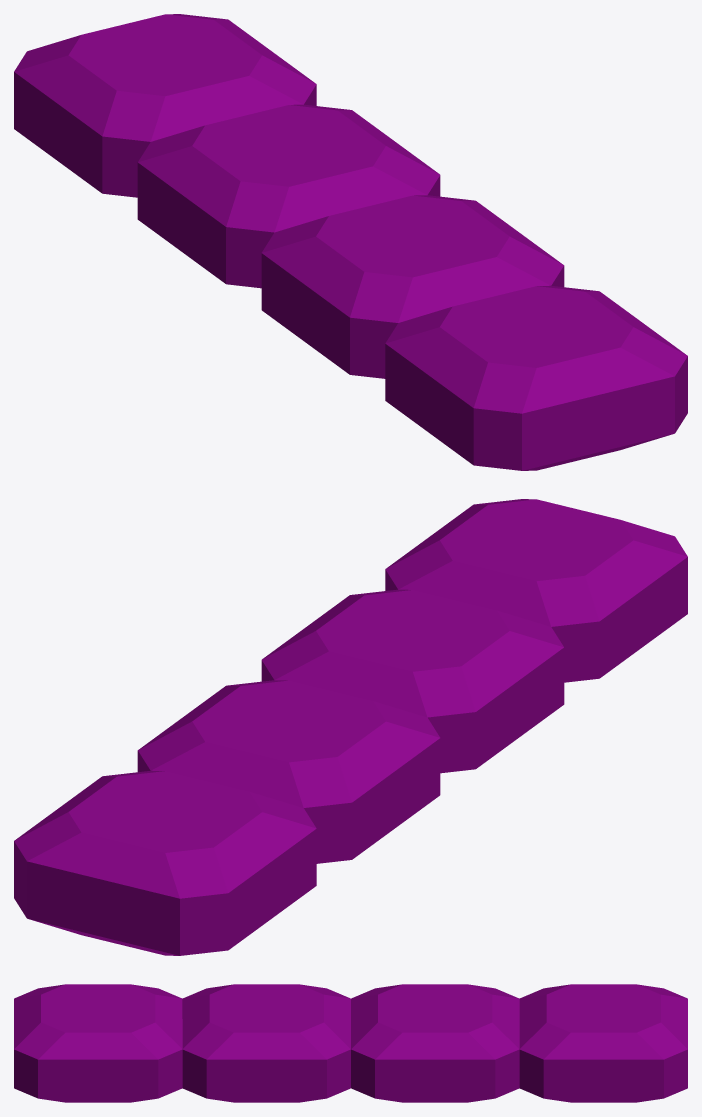
The picture shows the model from 3 angles, top to bottom: view 1: azimuth 30°, elevation 25°; view 2: azimuth 150°, elevation 25°; view 3: azimuth 270°, elevation 25°; orthographic projection. The views are drawn at different scales.
Visible parts, largest first — view 1: Cube.018; view 2: Cube.018; view 3: Cube.018.
Part boxes in pixels (left/top/right/bottom): Cube.018: left=14, top=14, right=687, bottom=470; Cube.018: left=14, top=499, right=687, bottom=955; Cube.018: left=14, top=984, right=687, bottom=1102.
Size of the model in its own units: 0.5 by 0.2288 by 2.
Materials: 1 (1 with a texture image).
